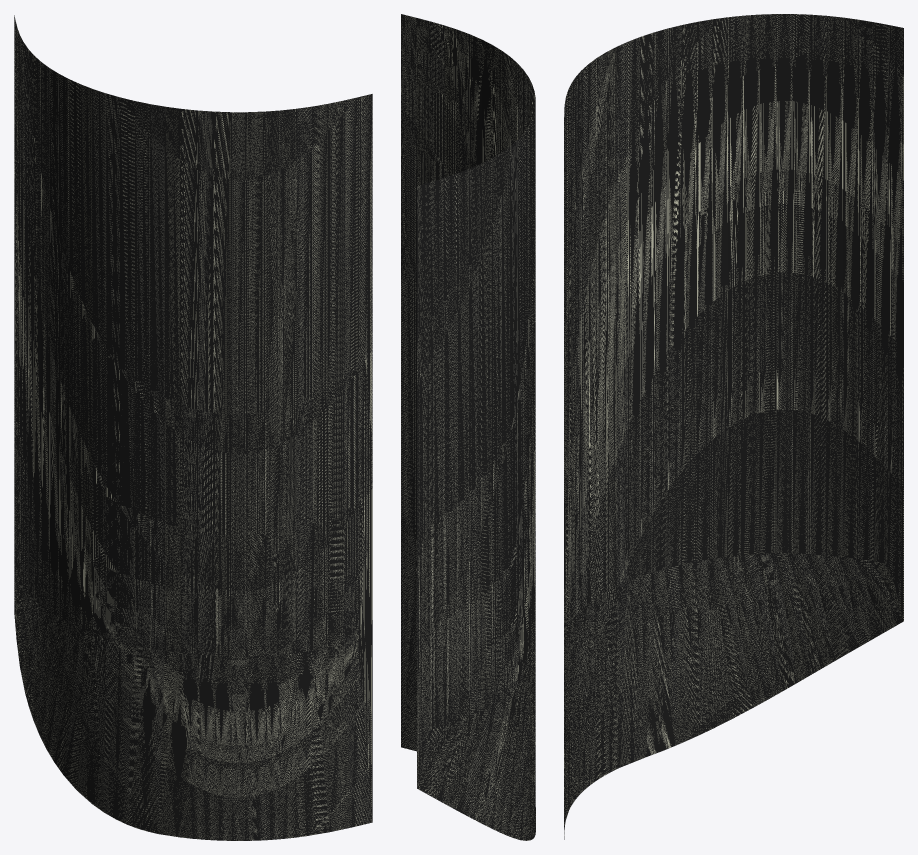
File: original-18.obj
3 views of the same model, side by side, from view 1: azimuth 30°, elevation 25°; view 2: azimuth 150°, elevation 25°; view 3: azimuth 270°, elevation 25° (orthographic).
Parts seen in each view (by area): view 1: Obj_000018_1/Obj_000018/mesh18/mesh18-geometry#mesh18-geometry; view 2: Obj_000018_1/Obj_000018/mesh18/mesh18-geometry#mesh18-geometry; view 3: Obj_000018_1/Obj_000018/mesh18/mesh18-geometry#mesh18-geometry.
Part boxes in pixels (bbox=[...]): Obj_000018_1/Obj_000018/mesh18/mesh18-geometry#mesh18-geometry: bbox=[14, 15, 372, 840]; Obj_000018_1/Obj_000018/mesh18/mesh18-geometry#mesh18-geometry: bbox=[401, 14, 535, 840]; Obj_000018_1/Obj_000018/mesh18/mesh18-geometry#mesh18-geometry: bbox=[564, 14, 903, 839].
Size of the model in its own units: 0.0184 by 0.0592 by 0.0252.
